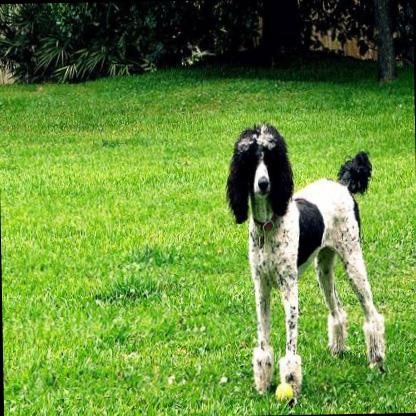standard_poodle: (222, 118, 386, 398)
